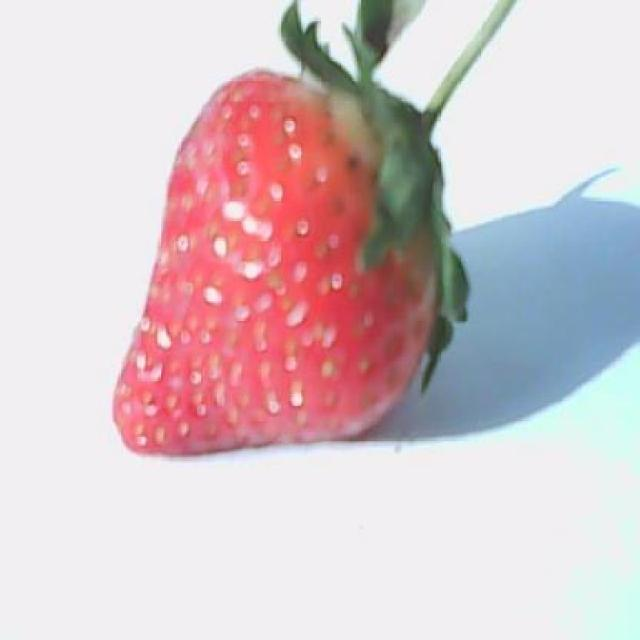strawberry: (114, 0, 514, 454)
